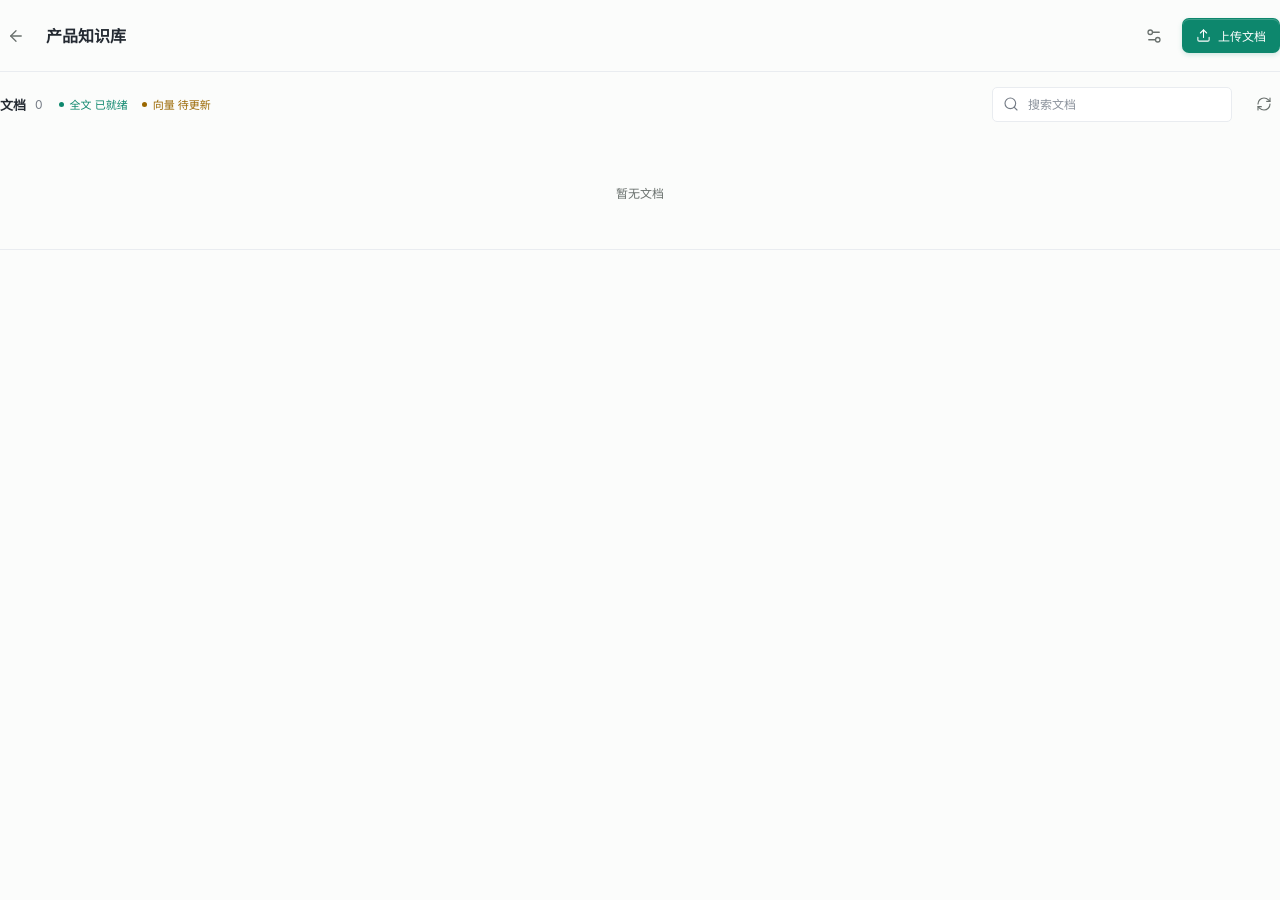
Scenario: KnowledgeBaseView › shows a missing default without preventing selection of another LLM
Click the button named "知识库设置". click: click(1154, 36)
box: [1138, 18, 1170, 52]
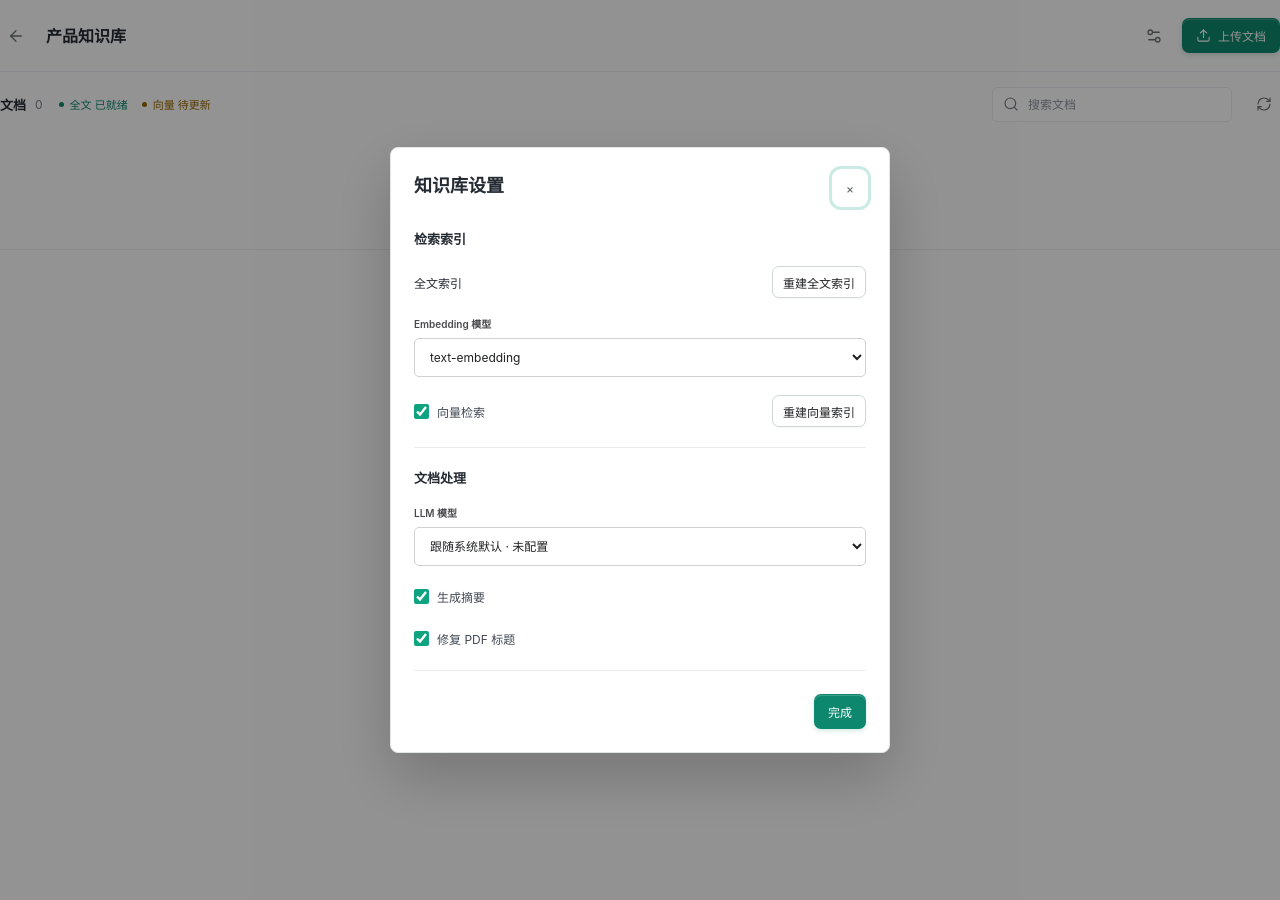
Check: the dropdown named "LLM 模型" is shown, box [414, 527, 866, 566]
